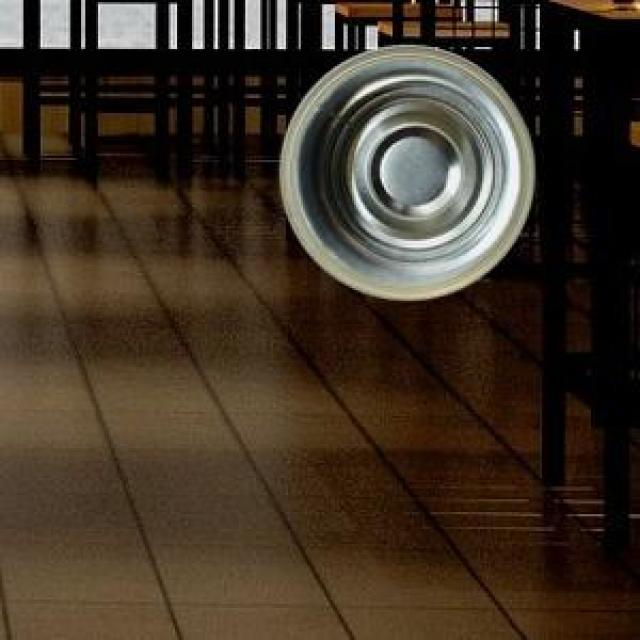logam: (276, 42, 532, 298)
